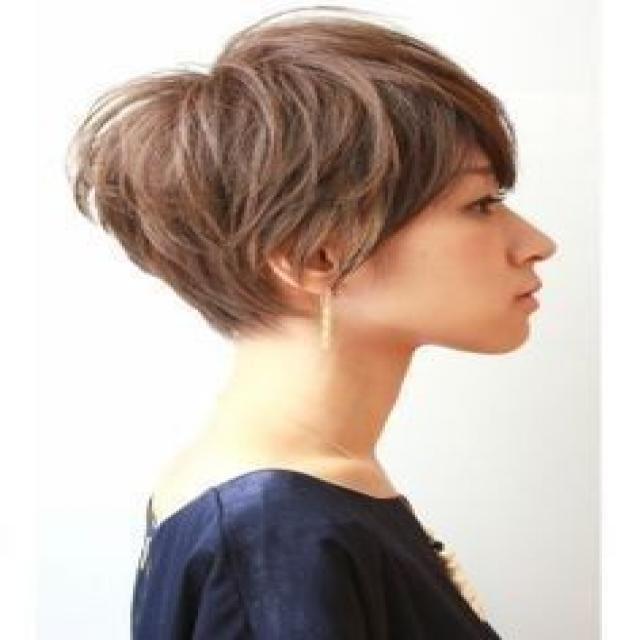Healthy: (183, 320, 417, 492)
